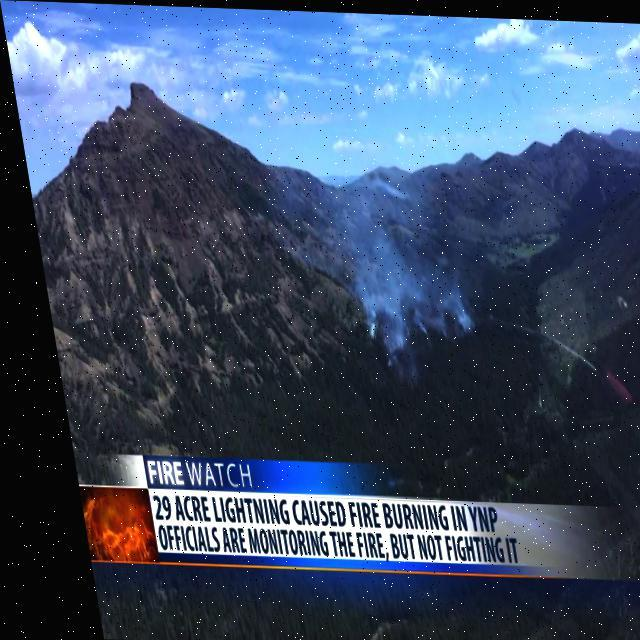Fire: (62, 488, 138, 559)
